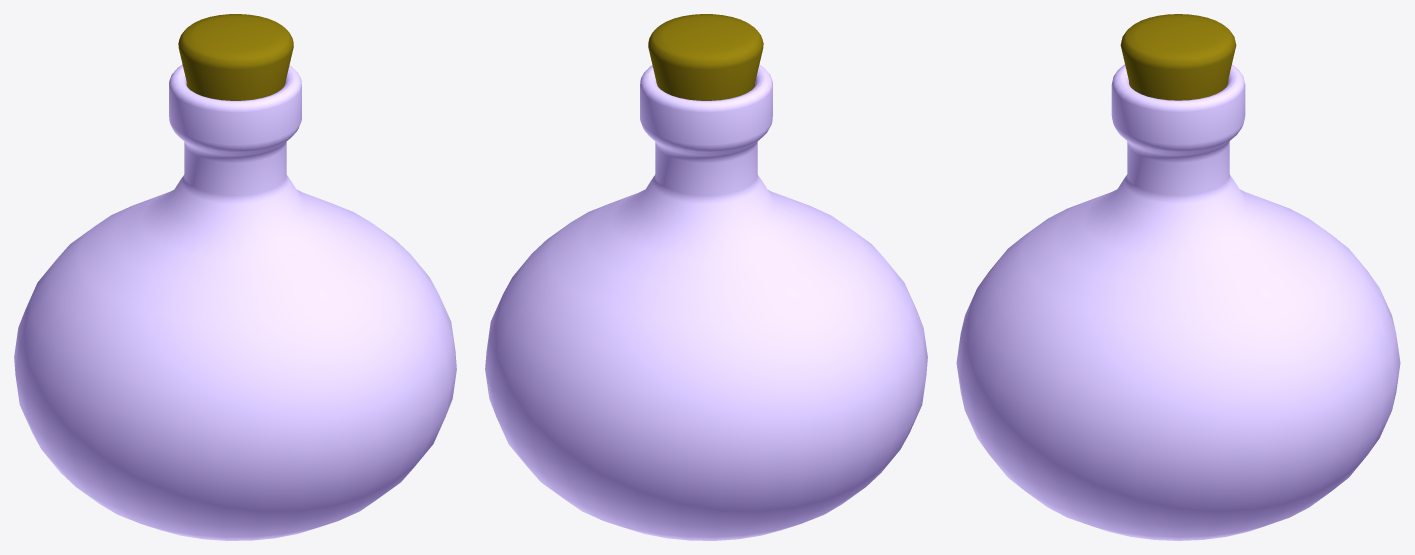
The model's file is Poison Bottle.fbx.
3 renders of one model, left to right at view 1: azimuth 30°, elevation 25°; view 2: azimuth 150°, elevation 25°; view 3: azimuth 270°, elevation 25°, orthographic.
Visible parts, largest first — view 1: Sphere, Bottle Cap.001; view 2: Sphere, Bottle Cap.001; view 3: Sphere, Bottle Cap.001.
Part boxes in pixels (left/top/right/bottom): Sphere: left=14, top=64, right=456, bottom=540; Bottle Cap.001: left=178, top=14, right=293, bottom=100; Sphere: left=485, top=64, right=927, bottom=540; Bottle Cap.001: left=648, top=14, right=763, bottom=100; Sphere: left=956, top=64, right=1400, bottom=540; Bottle Cap.001: left=1120, top=14, right=1236, bottom=100.
Bounding box in the file's own units: 558 × 636 × 558.
